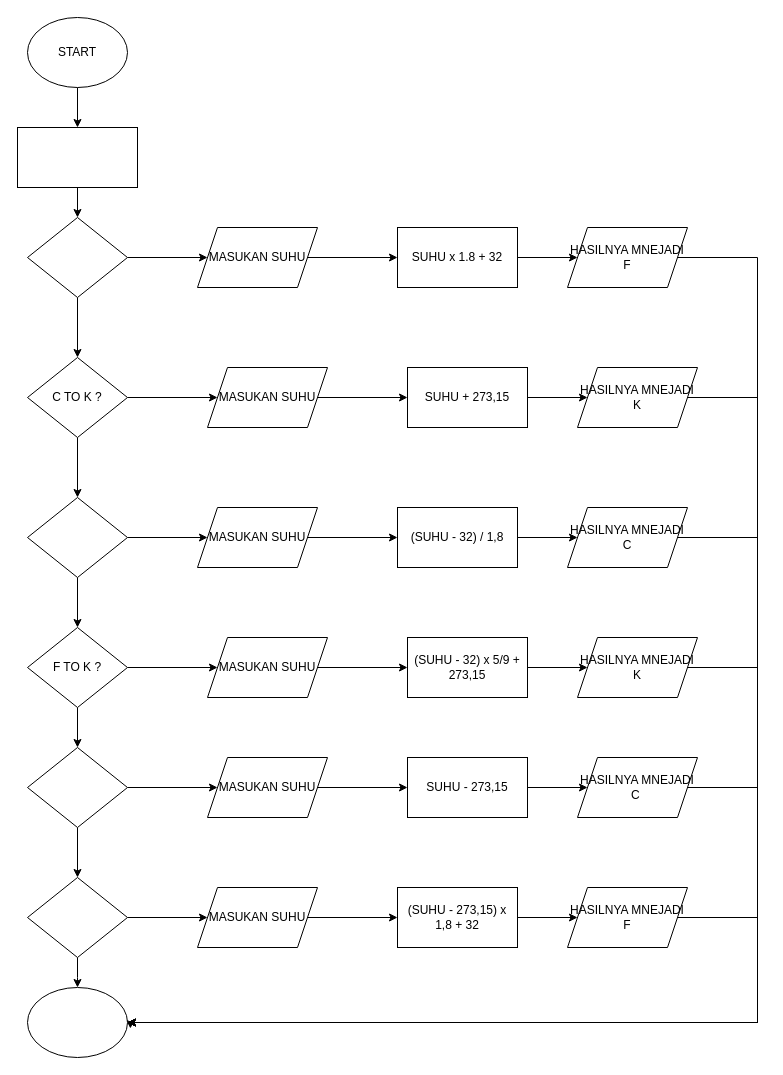
Some shapes in this 783 by 1075 pixel diagram are drawn without their labels. Here are the shapes that lost their labels. From the top down, the box of each, then its label:
(16, 126, 138, 188): CARI SUHU
(26, 216, 128, 298): C TO F ?
(26, 496, 128, 578): F TO C ?
(26, 746, 128, 828): K TO C ?
(26, 876, 128, 958): K TO F ?
(26, 986, 128, 1058): FINISH
